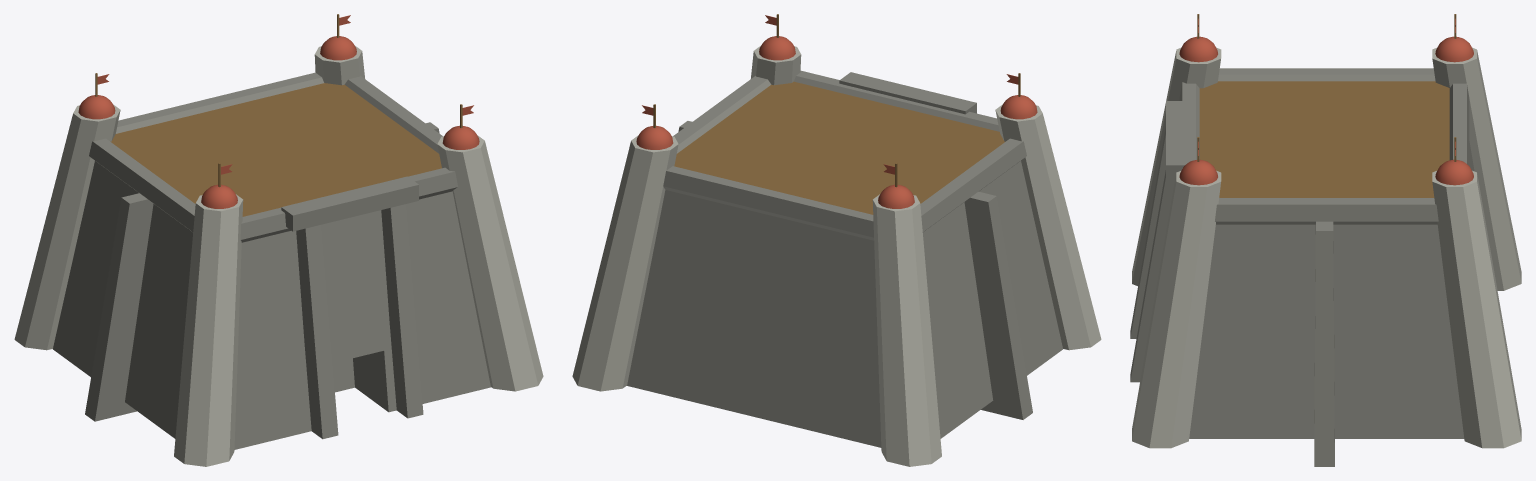
File: Fortress.glb
3 renders of one model, left to right at view 1: azimuth 30°, elevation 25°; view 2: azimuth 150°, elevation 25°; view 3: azimuth 270°, elevation 25°, orthographic. The views are drawn at different scales.
Visible parts, largest first — view 1: Fortress; view 2: Fortress; view 3: Fortress.
Part boxes in pixels (x1=…): Fortress: x1=14, y1=14, x2=543, y2=466; Fortress: x1=572, y1=14, x2=1101, y2=466; Fortress: x1=1130, y1=14, x2=1521, y2=466.
Bounding box in the file's own units: 2.91 × 2.06 × 2.49.
